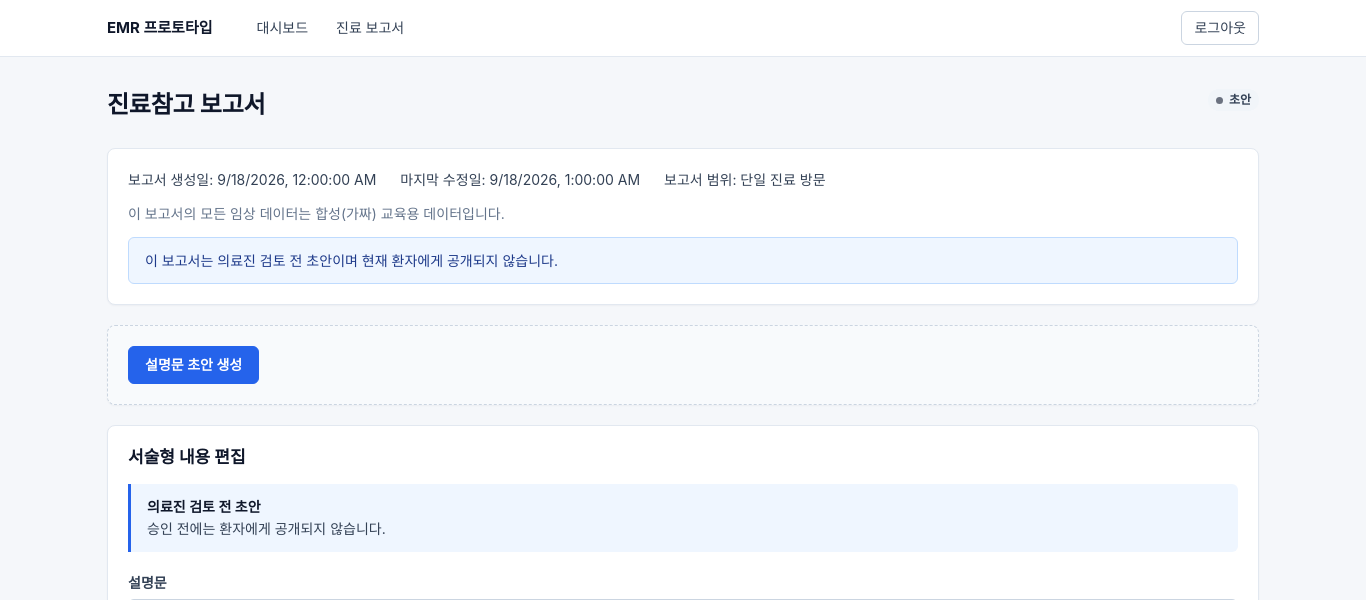
Scenario: ClinicalReportPreviewPage › shows the generic error and keeps the button usable when generation fails with an unexpected status
Click the button "설명문 초안 생성". click: (194, 365)
box: [128,346,259,384]
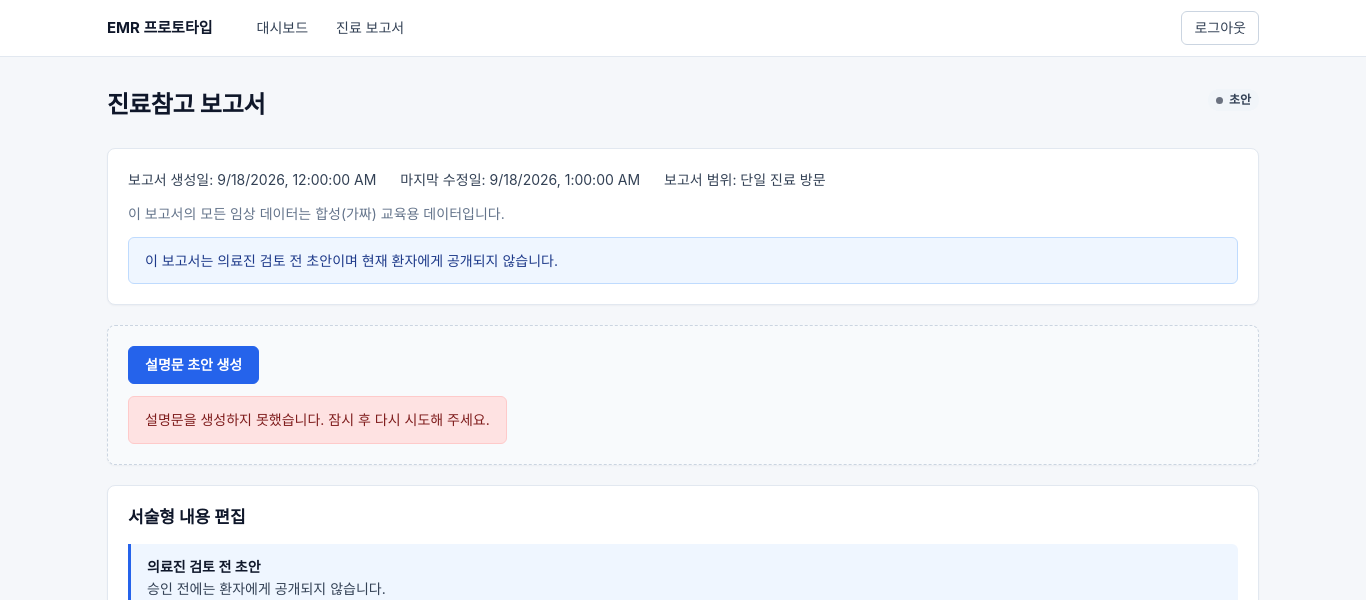
Now the message reads "설명문을 생성하지 못했습니다. 잠시 후 다시 시도해 주세요.", box [145,411,490,428]
